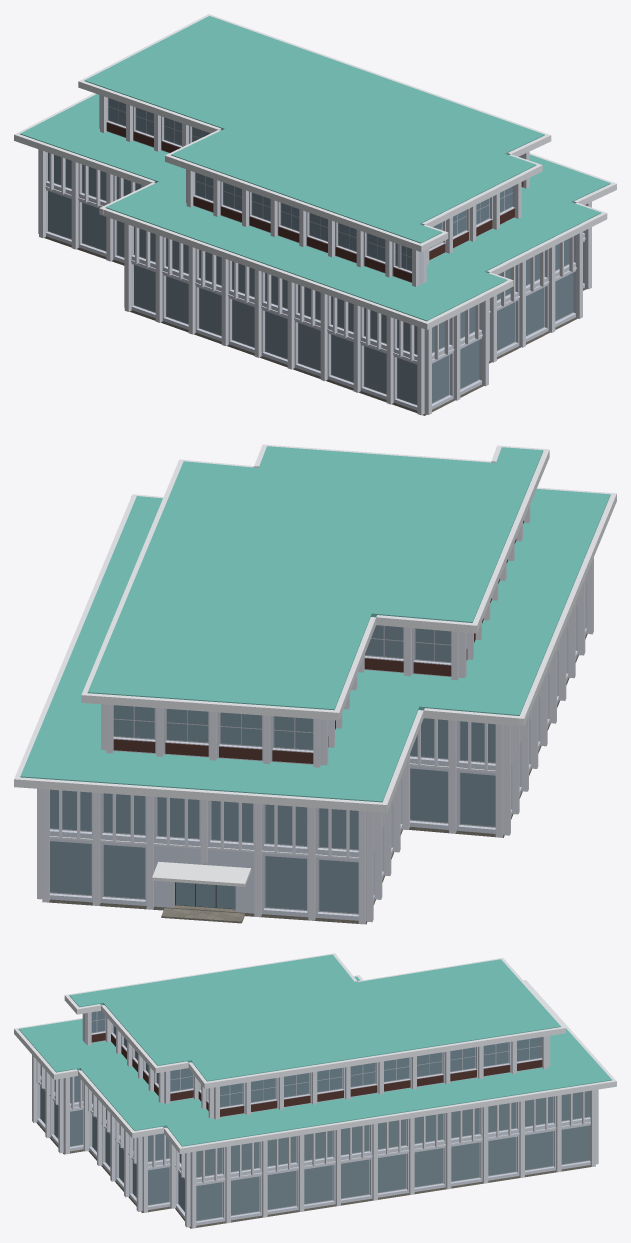
3 views of the same model, one above another, from view 1: azimuth 30°, elevation 25°; view 2: azimuth 150°, elevation 25°; view 3: azimuth 270°, elevation 25° (orthographic). The views are drawn at different scales.
Visible parts, largest first — view 1: uac-annex__greenroof, uac-annex__pier, uac-annex__sideglass, uac-annex__fascia, uac-annex__white, uac-annex__glass, uac-annex__frame, uac-annex__spandrel, uac-annex__stone; view 2: uac-annex__greenroof, uac-annex__pier, uac-annex__sideglass, uac-annex__fascia, uac-annex__white, uac-annex__glass, uac-annex__frame, uac-annex__spandrel, uac-annex__canopy, uac-annex__stone, uac-annex__threshold-annex-north; view 3: uac-annex__greenroof, uac-annex__sideglass, uac-annex__pier, uac-annex__fascia, uac-annex__white, uac-annex__glass, uac-annex__frame, uac-annex__spandrel, uac-annex__stone.
Part boxes in pixels (x1,y1,x2,y2): uac-annex__greenroof: (20, 16, 610, 321); uac-annex__pier: (38, 95, 591, 415); uac-annex__sideglass: (48, 152, 573, 404); uac-annex__fascia: (14, 14, 616, 329); uac-annex__white: (46, 97, 584, 412); uac-annex__glass: (108, 98, 520, 270); uac-annex__frame: (47, 101, 573, 405); uac-annex__spandrel: (106, 122, 523, 282); uac-annex__stone: (44, 236, 586, 415); uac-annex__greenroof: (20, 446, 610, 802); uac-annex__pier: (37, 505, 593, 924); uac-annex__sideglass: (50, 718, 495, 913); uac-annex__fascia: (14, 444, 616, 812); uac-annex__white: (50, 583, 586, 920); uac-annex__glass: (113, 625, 451, 908); uac-annex__frame: (50, 625, 495, 914); uac-annex__spandrel: (113, 520, 523, 763); uac-annex__canopy: (152, 861, 251, 886); uac-annex__stone: (49, 633, 587, 924); uac-annex__threshold-annex-north: (161, 908, 244, 923); uac-annex__greenroof: (18, 954, 611, 1146); uac-annex__sideglass: (40, 1065, 589, 1220); uac-annex__pier: (32, 1012, 598, 1228); uac-annex__fascia: (14, 953, 616, 1153); uac-annex__white: (37, 1013, 590, 1226); uac-annex__glass: (91, 1011, 541, 1107); uac-annex__frame: (40, 1011, 589, 1221); uac-annex__spandrel: (91, 1033, 542, 1116); uac-annex__stone: (36, 1122, 591, 1228).
Bounding box in the file's own units: 38.54 × 13.82 × 56.54.
12 materials, 3 textured.
